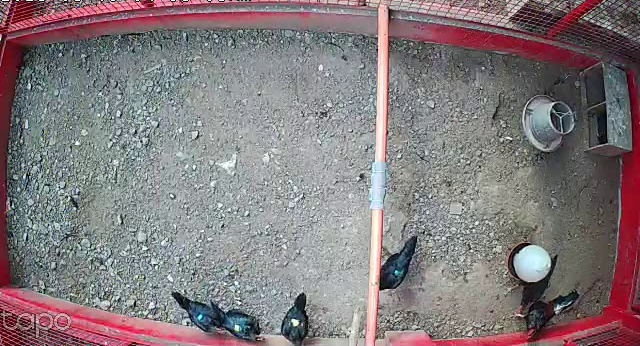Chicken: (501, 251, 563, 319), (207, 297, 267, 344), (168, 287, 223, 336), (378, 235, 420, 290), (279, 287, 314, 346)
Rooster: (506, 285, 581, 341)
Saddle_Color_Blue: (198, 313, 205, 319)
Saddle_Color_Yellow: (288, 320, 305, 328)
Saddle_Color_YellowGreen: (234, 323, 246, 332)
